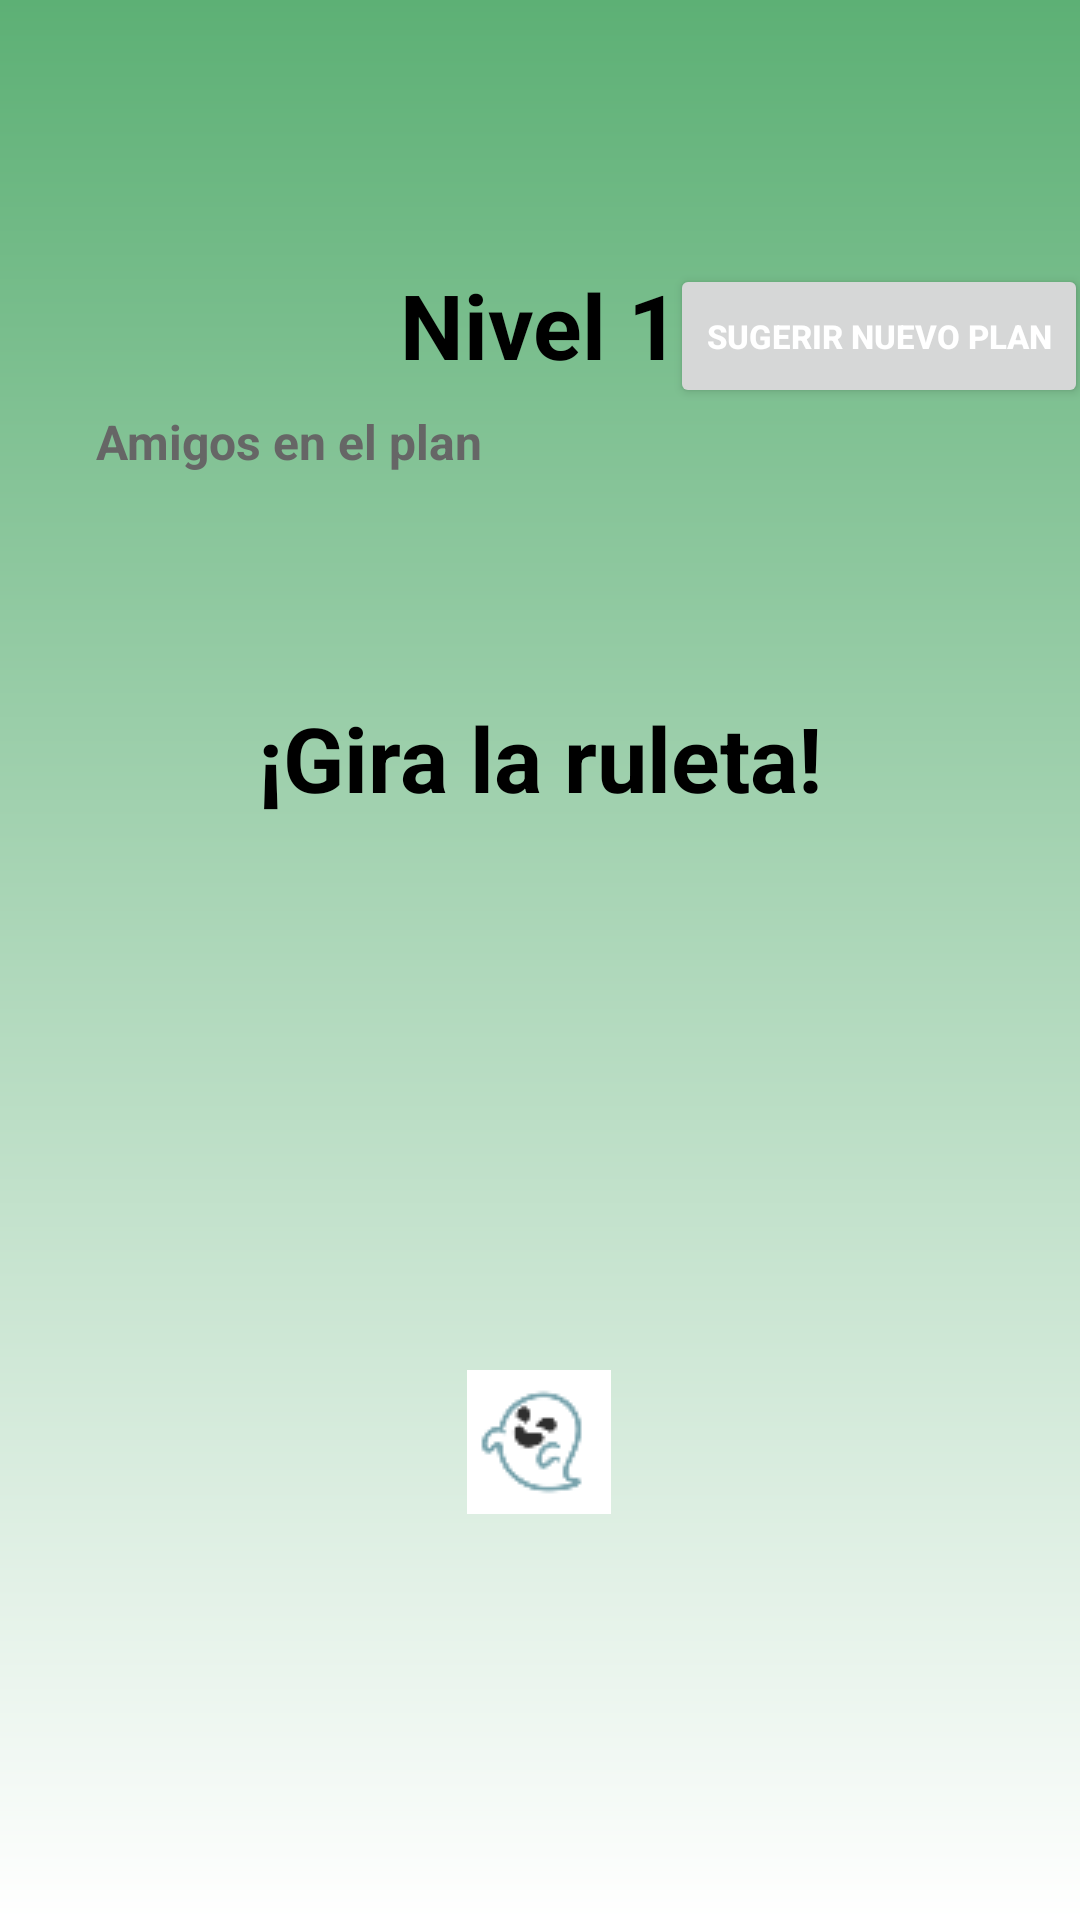

Where to tap for icons on this 1080px x 1920px app screen, as (x=x, y=y):
fantasma: (x=539, y=1442)
